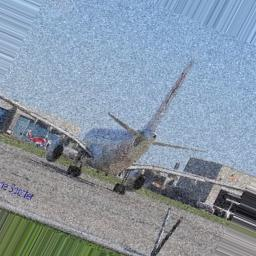Airplane: (5, 86, 236, 192)
